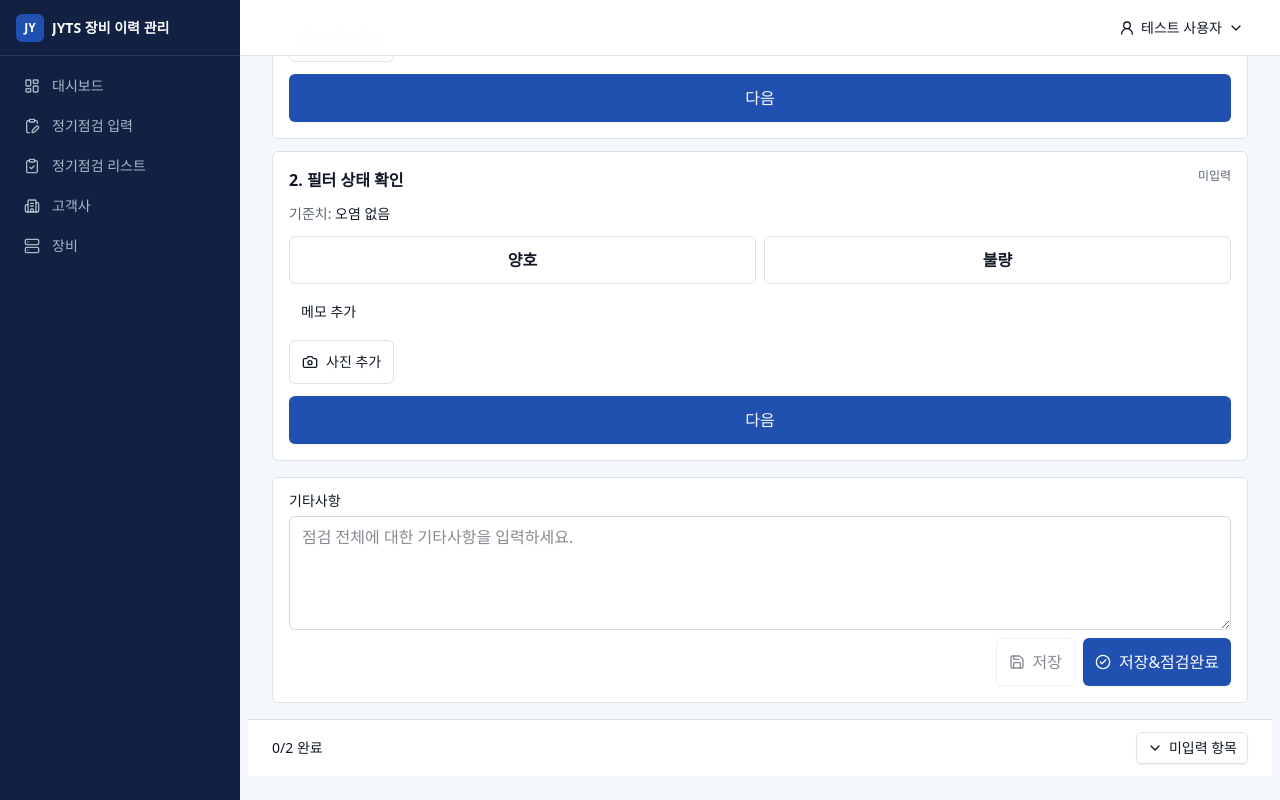
Scenario: inspection input page › saves overall remarks at the end of the input page
(page scrolled)
Expected: the button "저장" is disabled, [996,638,1075,686]
Type "다음 점검 시 필터 교체" into the text box labelled "기타사항" at (760, 573), box [289,516,1231,630]
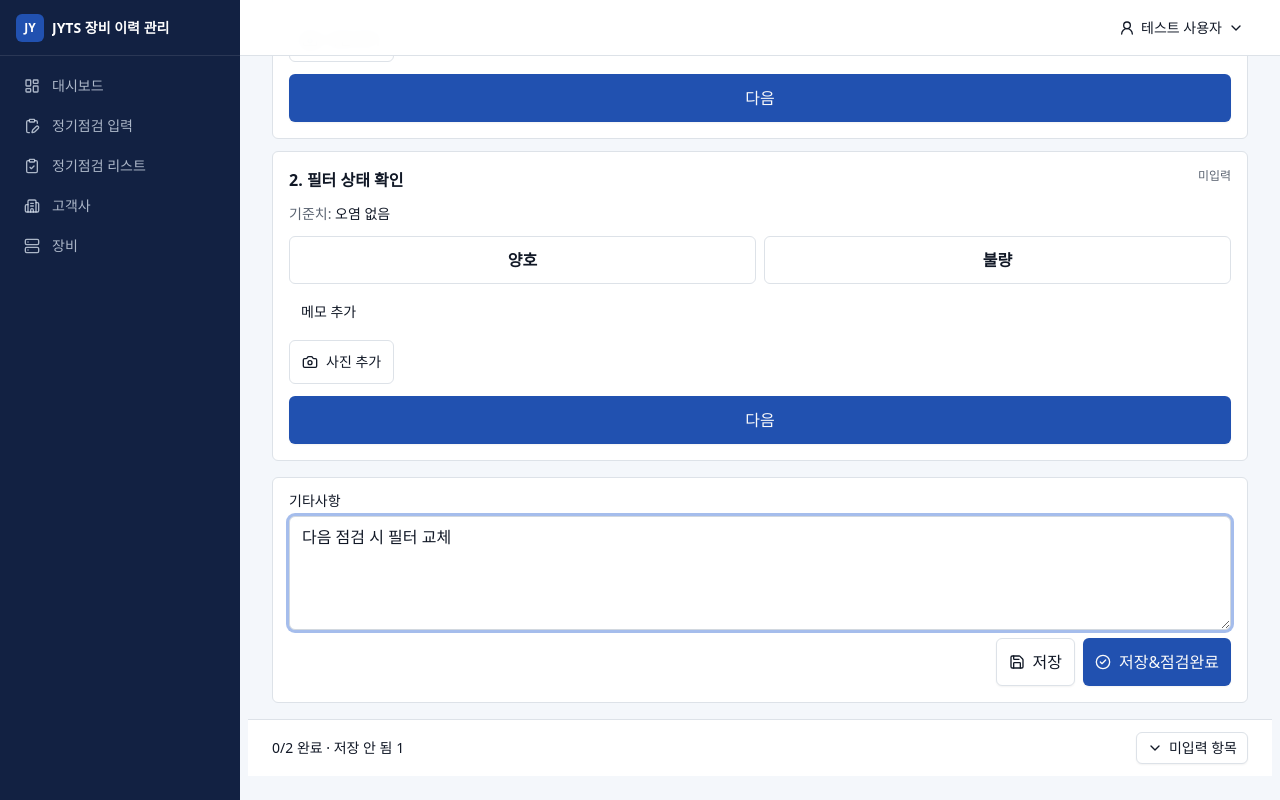
Click the button "저장" at (1035, 662), box [996,638,1075,686]
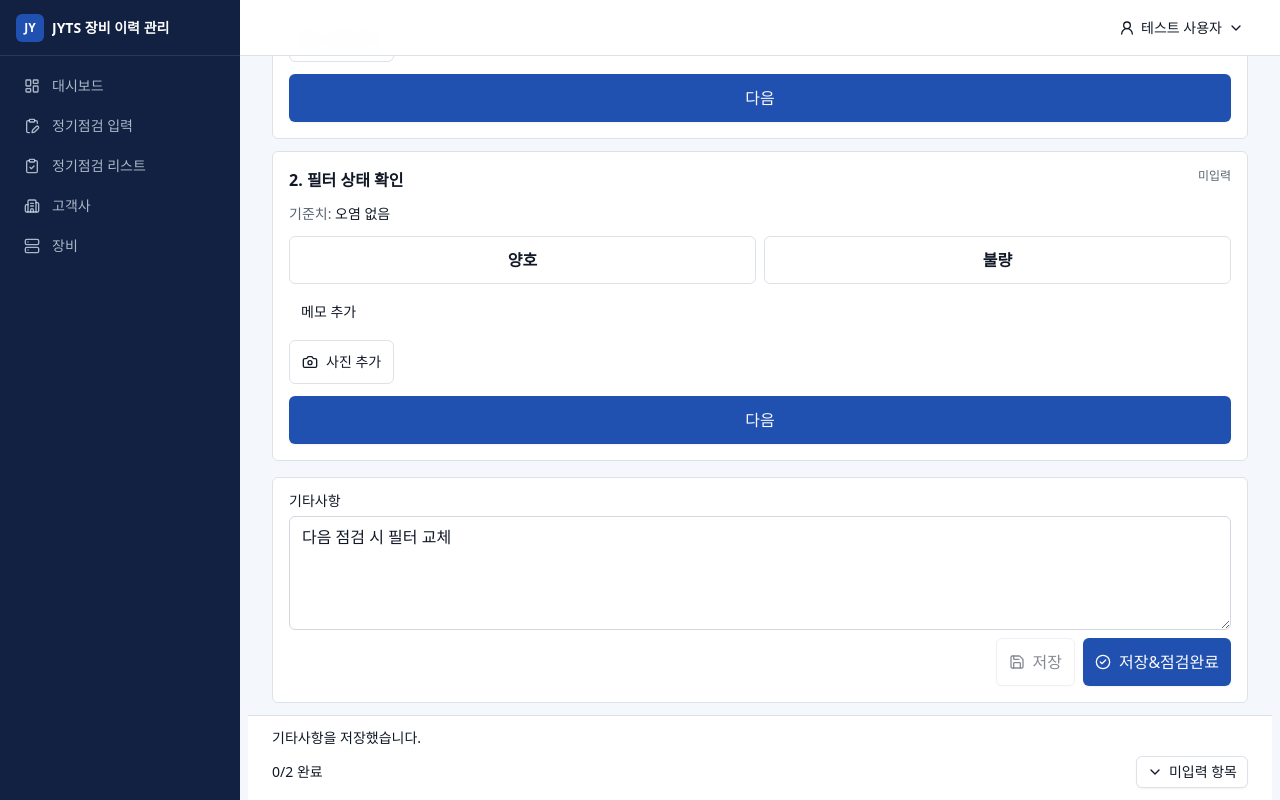
Expected: the text "기타사항을 저장했습니다." is shown, [272,728,421,747]
Expected: the button "저장" is disabled, [996,638,1075,686]
